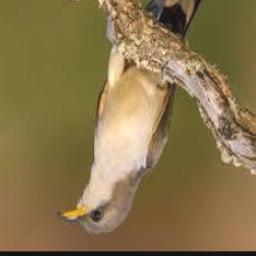Cuckoo: (57, 0, 220, 234)
